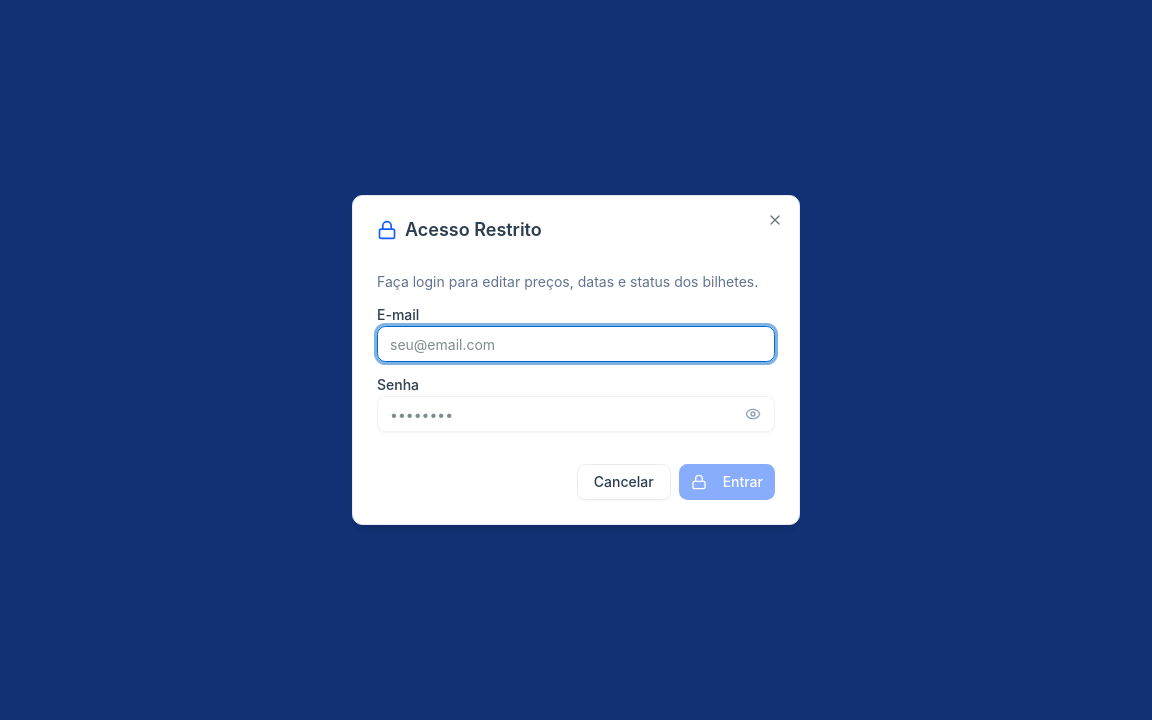
Test case: LoginModal verified session › keeps the dialog open when the fresh session check has a network error
The image size is (1152, 720).
Type "owner@example.com" into the field labelled "E-mail". click: (576, 344)
box: [377,326,775,362]
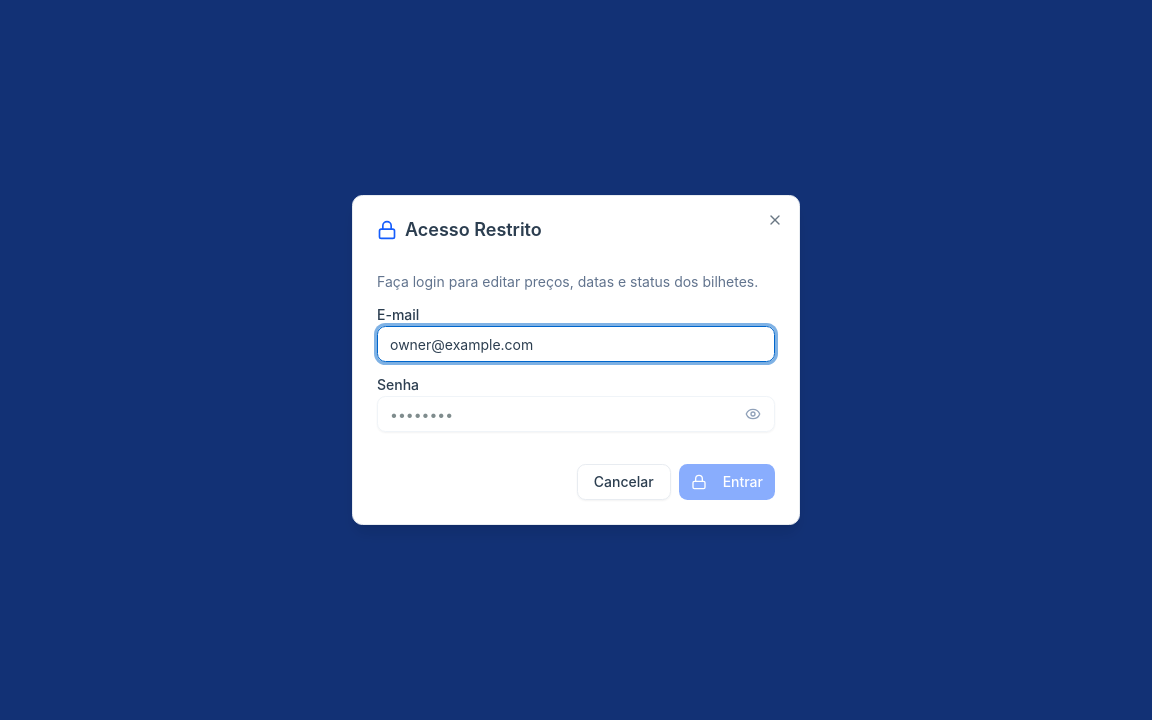
Type "test-password-only" into the password field labelled "Senha". click: (576, 414)
box: [377,396,775,432]
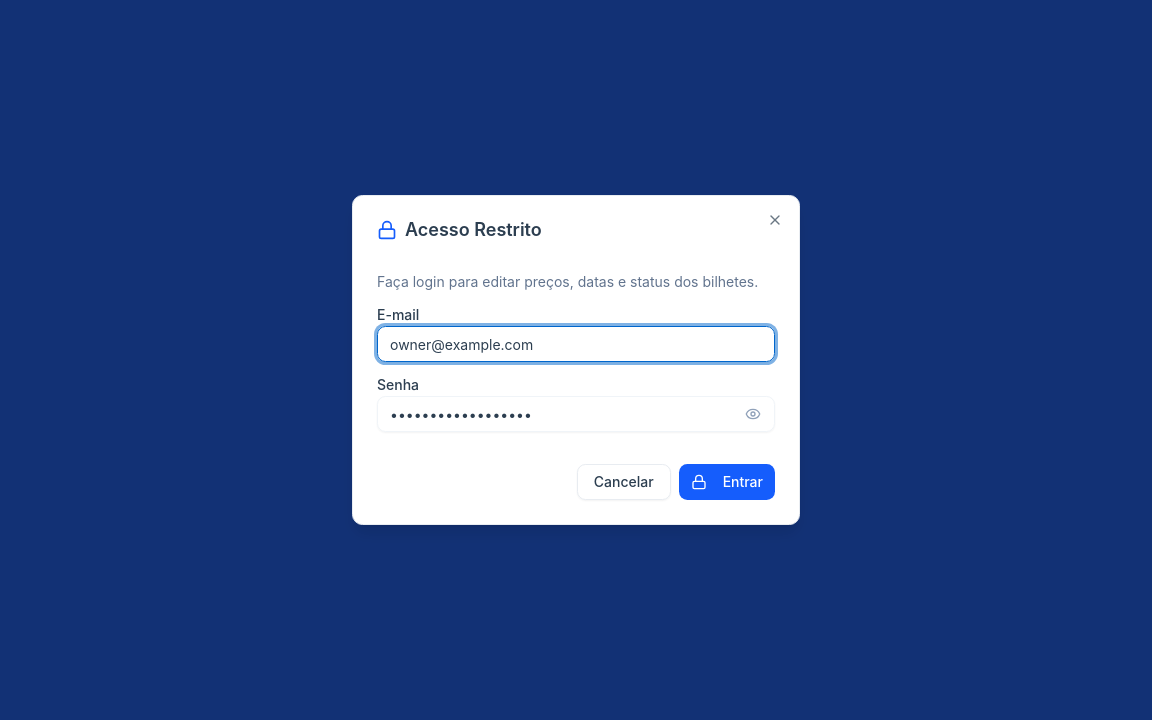
Click the button "Entrar". click: click(727, 482)
box: [679,464,775,500]
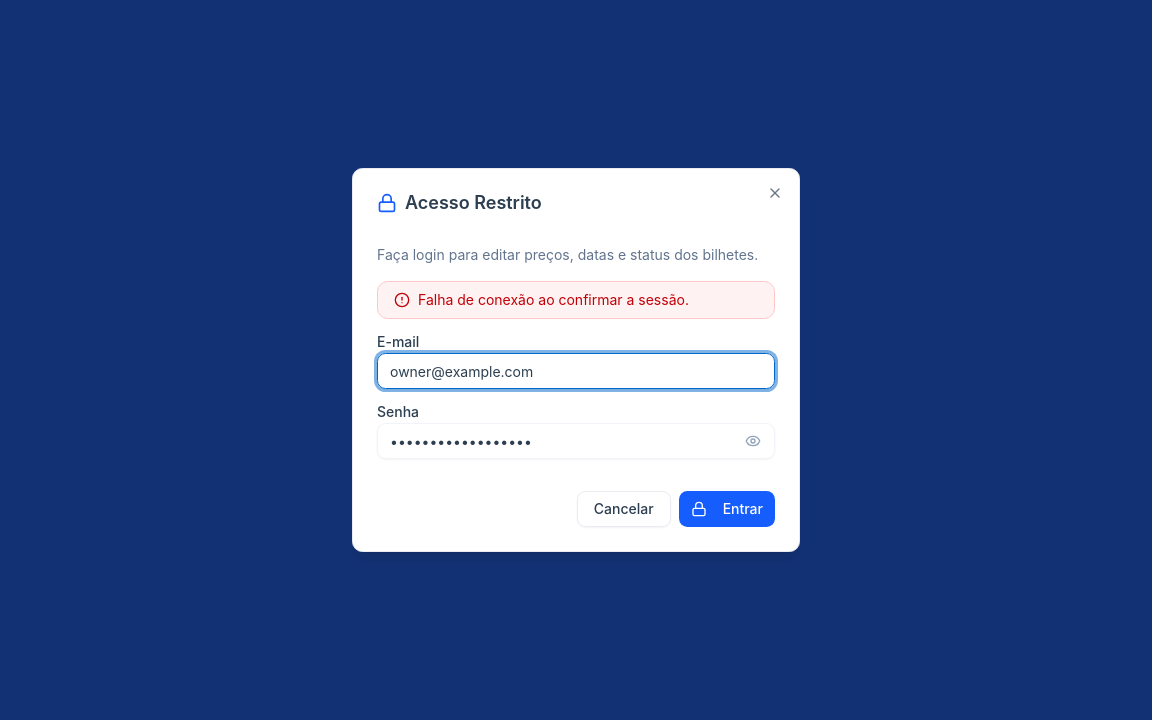
Now the message shows "Falha de conexão", box [418,291,689,308]
